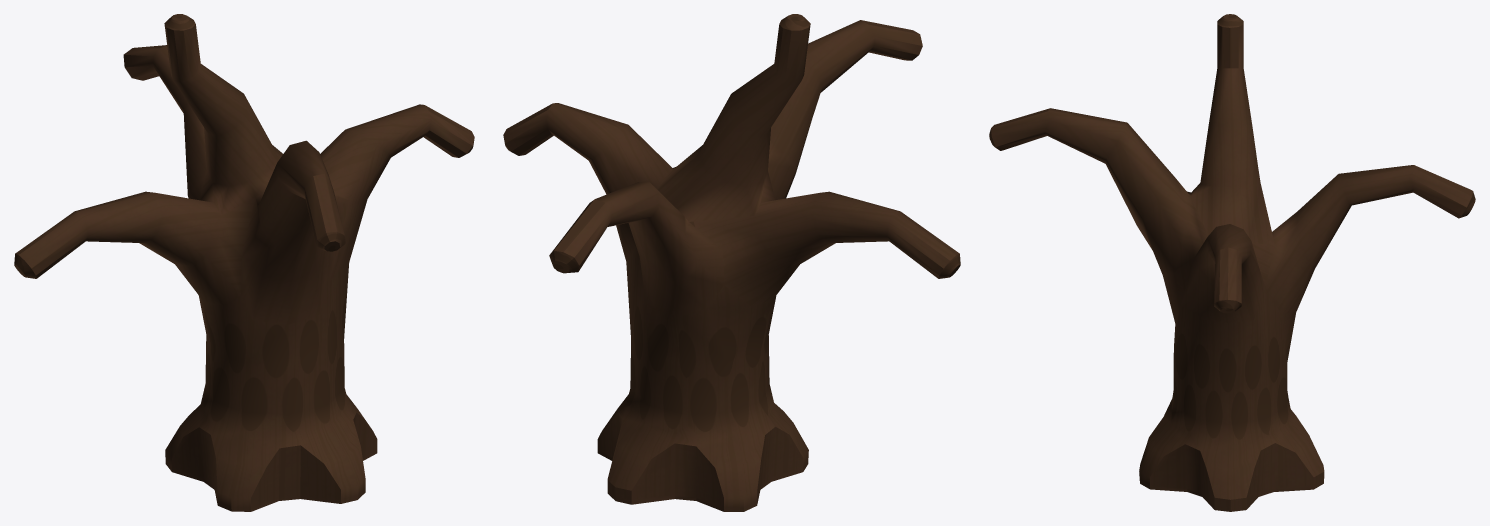
Rendered from Tree_Leafless.fbx.
3 renders of one model, left to right at view 1: azimuth 30°, elevation 25°; view 2: azimuth 150°, elevation 25°; view 3: azimuth 270°, elevation 25°, orthographic. The views are drawn at different scales.
Visible parts, largest first — view 1: Tree_Leafless; view 2: Tree_Leafless; view 3: Tree_Leafless.
Part boxes in pixels (x1,y1,x2,y2): Tree_Leafless: (14, 14, 474, 511); Tree_Leafless: (503, 14, 960, 511); Tree_Leafless: (989, 14, 1475, 511).
Bounding box in the file's own units: 2732 × 2733 × 2911.
